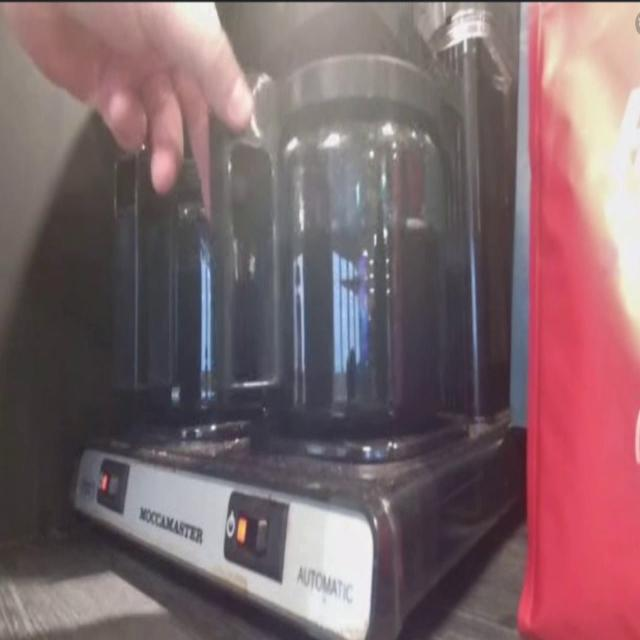coffee: (236, 46, 454, 443), (97, 126, 296, 436)
